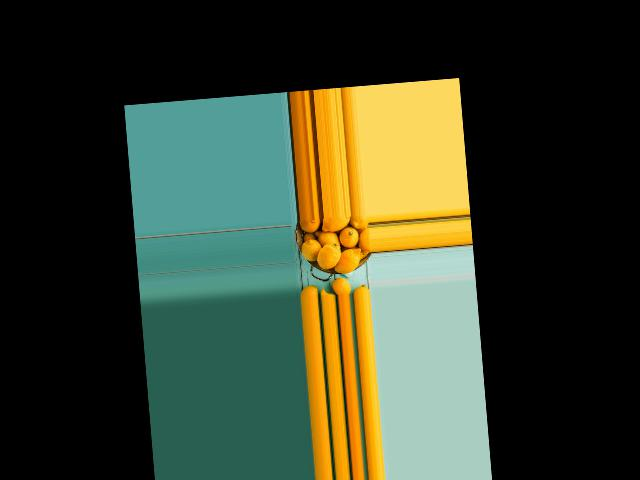lemon: (345, 213, 368, 229)
